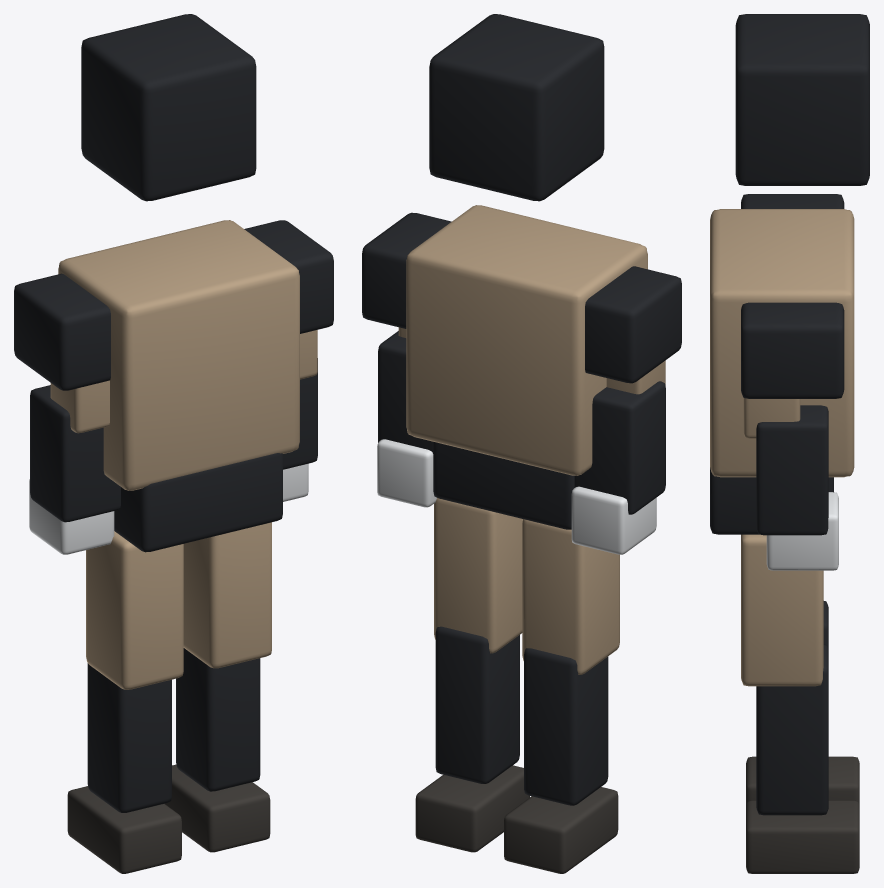
The model's file is guard.glb.
3 views of the same model, side by side, from view 1: azimuth 30°, elevation 25°; view 2: azimuth 150°, elevation 25°; view 3: azimuth 270°, elevation 25° (orthographic).
Parts seen in each view (by area): view 1: Armor, Helm, ThighL, ThighR, Pelvis, ShinL, ShinR, PauldronL, ForeArmL, BootL, BootR, PauldronR (+5 smaller); view 2: Armor, Helm, ThighL, ShinR, ShinL, ThighR, PauldronL, ForeArmL, Pelvis, BootL, BootR, PauldronR (+4 smaller); view 3: Armor, Helm, ThighR, PauldronR, ShinR, ForeArmR, BootR, FistR, Pelvis, BootL, UpperArmR, PauldronL.
Part boxes in pixels (left/top/right/bottom): Armor: left=58, top=220, right=299, bottom=490; Helm: left=81, top=14, right=256, bottom=201; ThighL: left=86, top=531, right=183, bottom=689; ThighR: left=183, top=522, right=271, bottom=668; Pelvis: left=114, top=453, right=282, bottom=552; ShinL: left=87, top=663, right=171, bottom=812; ShinR: left=176, top=648, right=260, bottom=791; PauldronL: left=14, top=273, right=110, bottom=390; ForeArmL: left=30, top=385, right=120, bottom=522; BootL: left=67, top=786, right=181, bottom=873; BootR: left=164, top=764, right=270, bottom=852; PauldronR: left=244, top=220, right=333, bottom=333; Armor: left=406, top=205, right=647, bottom=475; Helm: left=429, top=14, right=604, bottom=201; ThighL: left=522, top=519, right=619, bottom=674; ShinR: left=435, top=626, right=519, bottom=783; ShinL: left=524, top=648, right=608, bottom=805; ThighR: left=434, top=498, right=522, bottom=653; PauldronL: left=585, top=266, right=681, bottom=383; ForeArmL: left=574, top=381, right=665, bottom=514; Pelvis: left=433, top=442, right=574, bottom=529; BootL: left=504, top=787, right=618, bottom=873; BootR: left=415, top=765, right=529, bottom=852; PauldronR: left=362, top=212, right=451, bottom=328; Armor: left=710, top=209, right=854, bottom=477; Helm: left=735, top=14, right=869, bottom=185; ThighR: left=741, top=534, right=823, bottom=686; PauldronR: left=741, top=302, right=844, bottom=398; ShinR: left=756, top=644, right=828, bottom=815; ForeArmR: left=756, top=405, right=828, bottom=535; BootR: left=746, top=800, right=859, bottom=873; FistR: left=766, top=492, right=838, bottom=570; Pelvis: left=710, top=467, right=833, bottom=534; BootL: left=746, top=756, right=859, bottom=806; UpperArmR: left=743, top=398, right=800, bottom=438; PauldronL: left=741, top=194, right=844, bottom=208.
Bounding box in the file's own units: 0.31 × 0.855 × 0.155.
